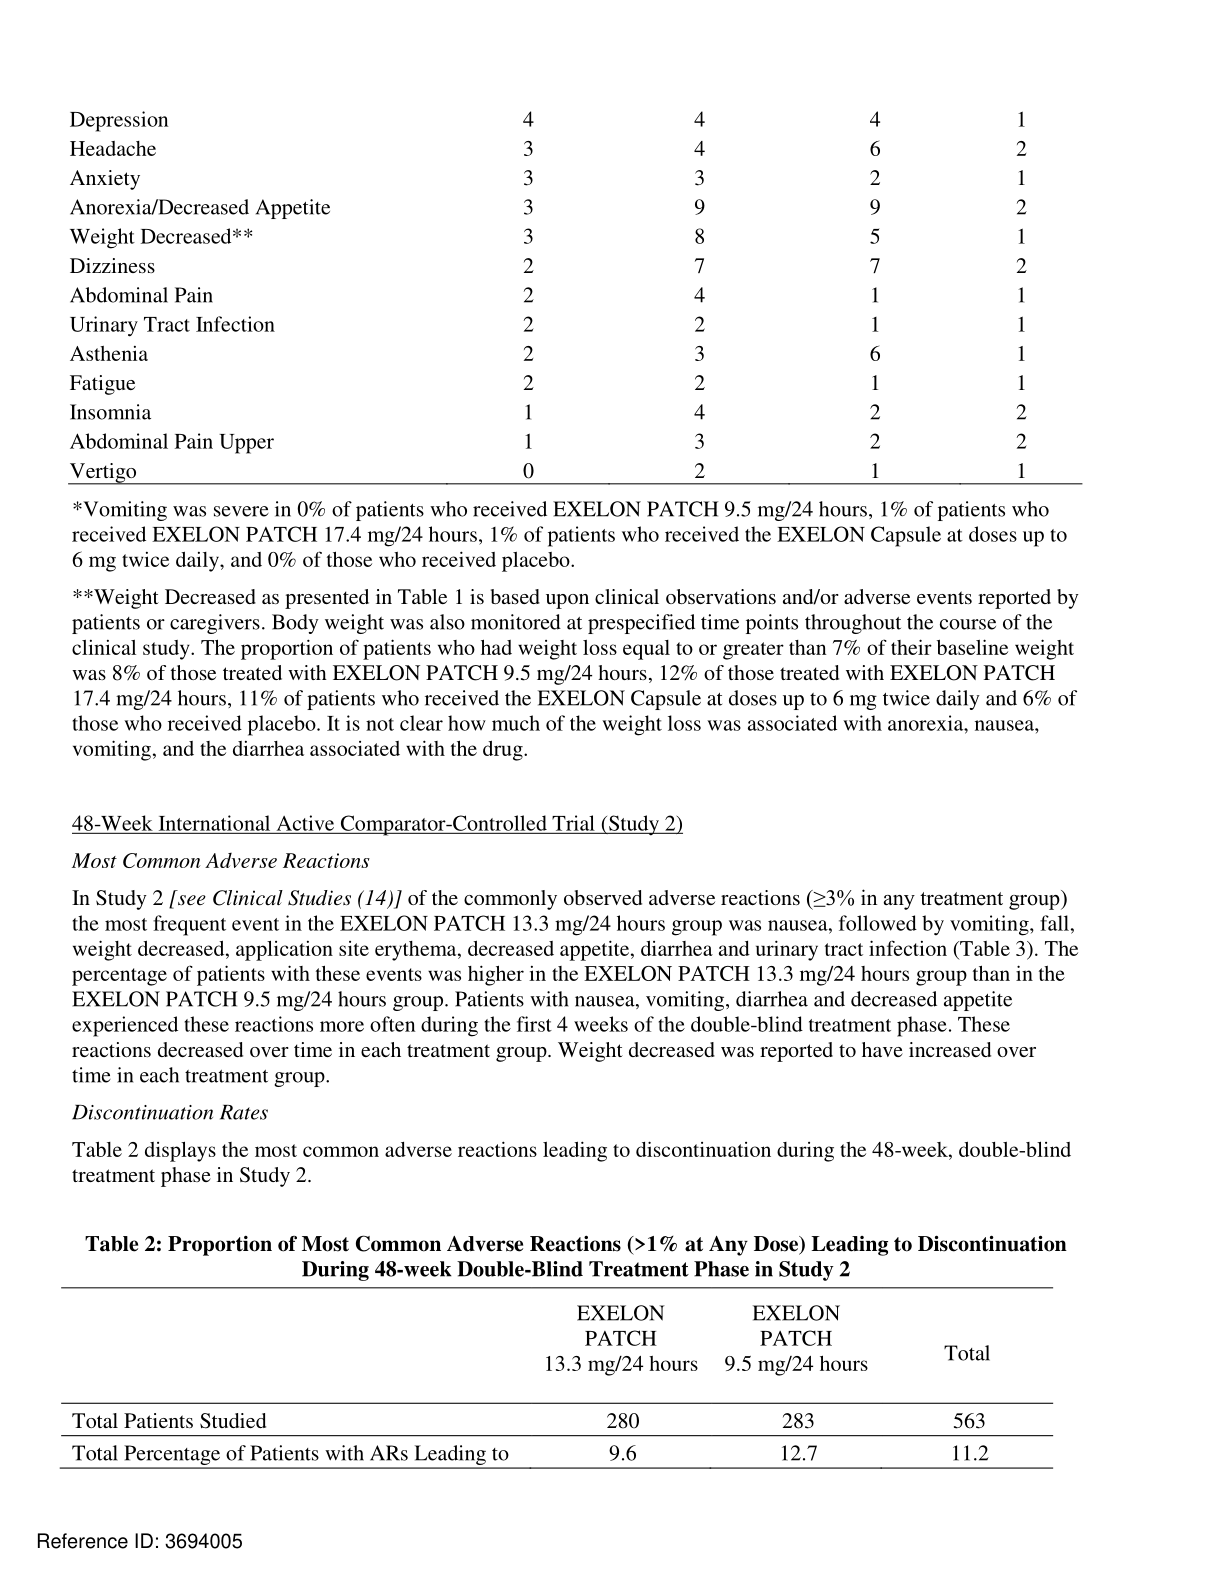nolines: (67, 105, 1030, 481)
partial_lined: (58, 1284, 1058, 1472)
